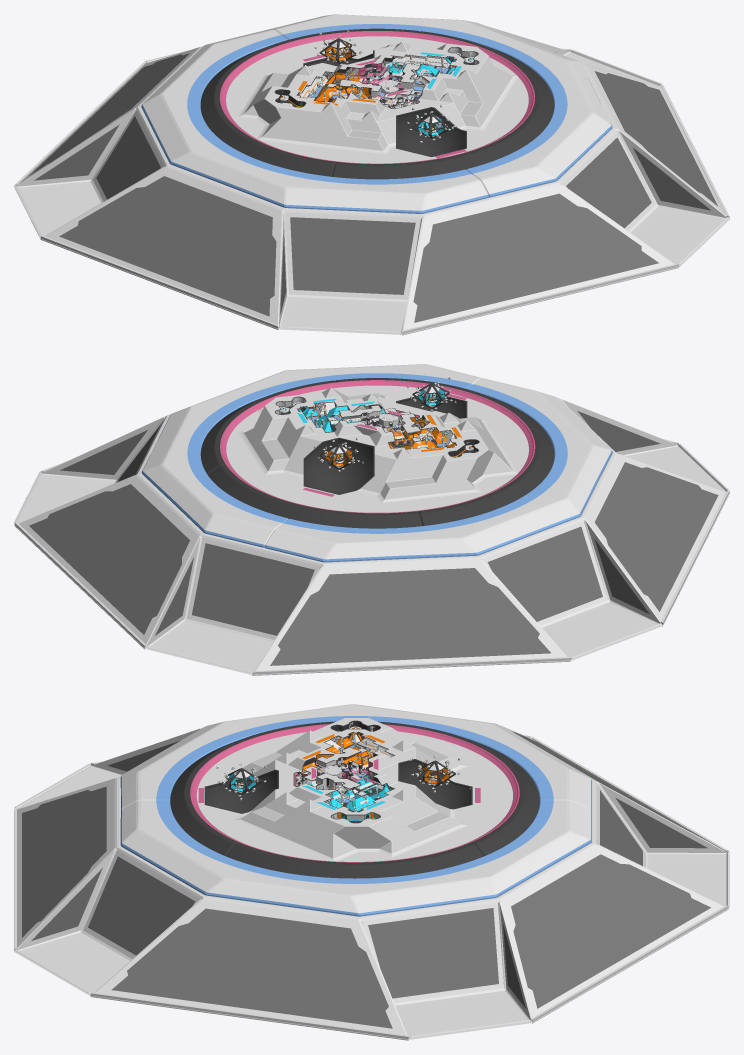
Rendered from Combustion_Minimap.fbx.
3 views of the same model, one above another, from view 1: azimuth 30°, elevation 25°; view 2: azimuth 150°, elevation 25°; view 3: azimuth 270°, elevation 25° (orthographic). The views are drawn at different scales.
Parts seen in each view (by area): view 1: 376.001, 378.001, 2.001, 123.001, 109.001, 118.001, 0.001, 3.001, 103.001, 105.001, 111.001, 377.001 (+9 smaller); view 2: 376.001, 378.001, 2.001, 123.001, 109.001, 118.001, 3.001, 0.001, 103.001, 111.001, 105.001, 377.001 (+8 smaller); view 3: 376.001, 378.001, 2.001, 123.001, 109.001, 118.001, 3.001, 0.001, 103.001, 111.001, 105.001, 377.001 (+9 smaller).
Part boxes in pixels (left/top/right/bottom): 376.001: left=29, top=52, right=717, bottom=322; 378.001: left=14, top=26, right=729, bottom=334; 2.001: left=142, top=14, right=611, bottom=210; 123.001: left=226, top=36, right=528, bottom=163; 109.001: left=244, top=42, right=512, bottom=150; 118.001: left=200, top=28, right=554, bottom=179; 0.001: left=141, top=24, right=612, bottom=213; 3.001: left=21, top=55, right=721, bottom=331; 103.001: left=14, top=48, right=729, bottom=335; 105.001: left=219, top=31, right=534, bottom=163; 111.001: left=306, top=56, right=465, bottom=156; 377.001: left=138, top=46, right=615, bottom=215; 376.001: left=29, top=411, right=718, bottom=665; 378.001: left=14, top=398, right=729, bottom=674; 2.001: left=143, top=364, right=611, bottom=559; 123.001: left=226, top=385, right=528, bottom=512; 109.001: left=244, top=388, right=512, bottom=499; 118.001: left=200, top=378, right=554, bottom=528; 3.001: left=22, top=449, right=719, bottom=671; 0.001: left=141, top=373, right=612, bottom=562; 103.001: left=14, top=439, right=729, bottom=675; 111.001: left=305, top=395, right=465, bottom=494; 105.001: left=220, top=380, right=535, bottom=513; 377.001: left=138, top=398, right=615, bottom=564; 376.001: left=22, top=731, right=710, bottom=1028; 378.001: left=14, top=725, right=729, bottom=1039; 2.001: left=121, top=704, right=590, bottom=913; 123.001: left=196, top=718, right=512, bottom=861; 109.001: left=240, top=723, right=460, bottom=858; 118.001: left=170, top=721, right=539, bottom=878; 3.001: left=23, top=769, right=723, bottom=1035; 0.001: left=120, top=716, right=591, bottom=916; 103.001: left=14, top=736, right=728, bottom=1040; 111.001: left=206, top=761, right=470, bottom=813; 105.001: left=190, top=724, right=519, bottom=862; 377.001: left=117, top=727, right=595, bottom=918.
Bounding box in the file's own units: 912 × 162 × 868.
